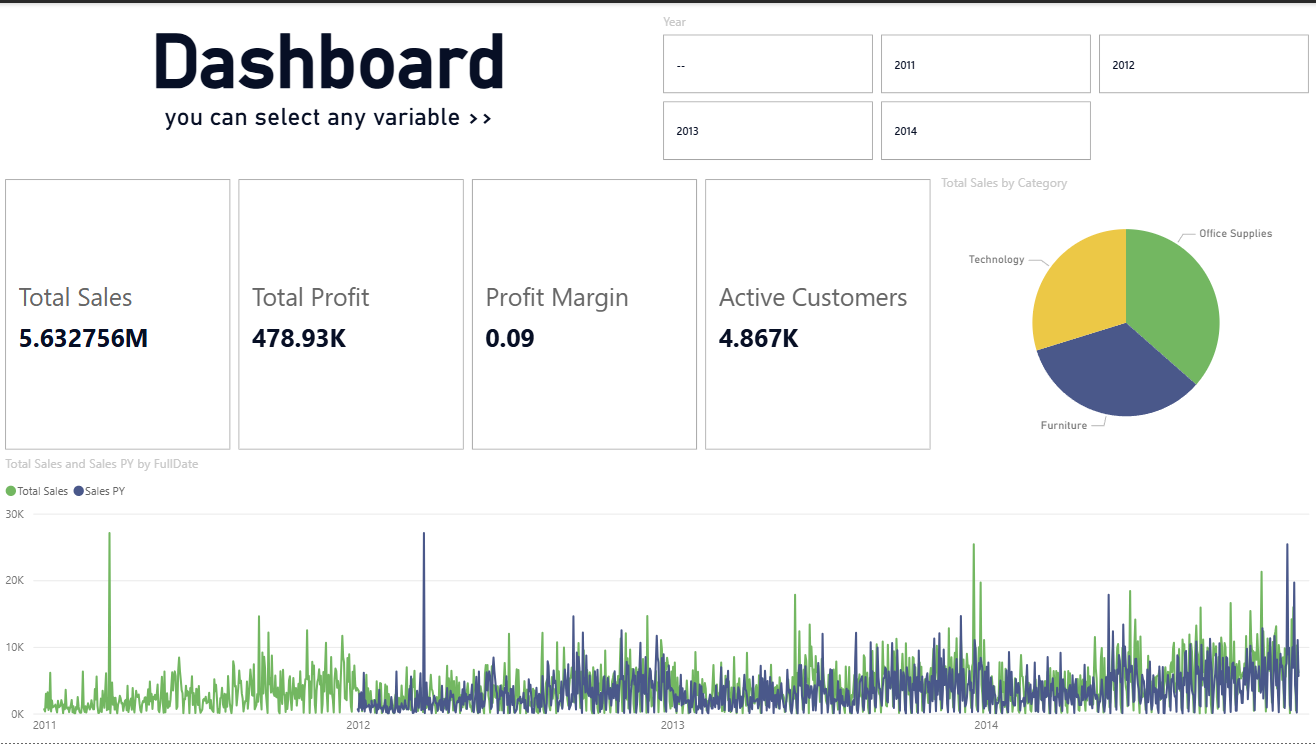

The page's visual inventory and layout, read from the dashboard file:
{"tool":"powerbi","page":{"name":"📊 Dashboard","canvas":[1280,720],"ordinal":0},"visuals":[{"type":"cardVisual","fields":{"Data":["Fact_Sales.Total Sales","Fact_Sales.Total Profit","Fact_Sales.Profit Margin","Fact_Sales.Active Customers"]},"box":[0,166.3,910.4,273.3],"z":0},{"type":"lineChart","fields":{"Category":["DimDate.FullDate"],"Y":["Fact_Sales.Total Sales","Fact_Sales.Sales PY"]},"box":[0,439.6,1280,280.1],"z":1000},{"type":"pieChart","fields":{"Category":["DimProduct.Category"],"Y":["Fact_Sales.Total Sales"]},"box":[910.4,166.3,369.6,273.3],"z":2000},{"type":"advancedSlicerVisual","fields":{"Values":["DimDate.Year"]},"box":[640,9.7,640,149.8],"z":3000},{"type":"textbox","box":[0,10,640,150],"z":4000}]}

Visuals, with their boxes in screenshot pixels (x1, y1, x2, y2), scaled from the page's 1280x720 canvas onto the 1316x744 screenshot:
cardVisual - Fact_Sales.Total Sales x Fact_Sales.Total Profit: (x1=0, y1=172, x2=936, y2=454)
lineChart - DimDate.FullDate x Fact_Sales.Total Sales: (x1=0, y1=454, x2=1315, y2=743)
pieChart - DimProduct.Category x Fact_Sales.Total Sales: (x1=936, y1=172, x2=1315, y2=454)
advancedSlicerVisual - DimDate.Year: (x1=658, y1=10, x2=1315, y2=165)
textbox: (x1=0, y1=10, x2=658, y2=165)
